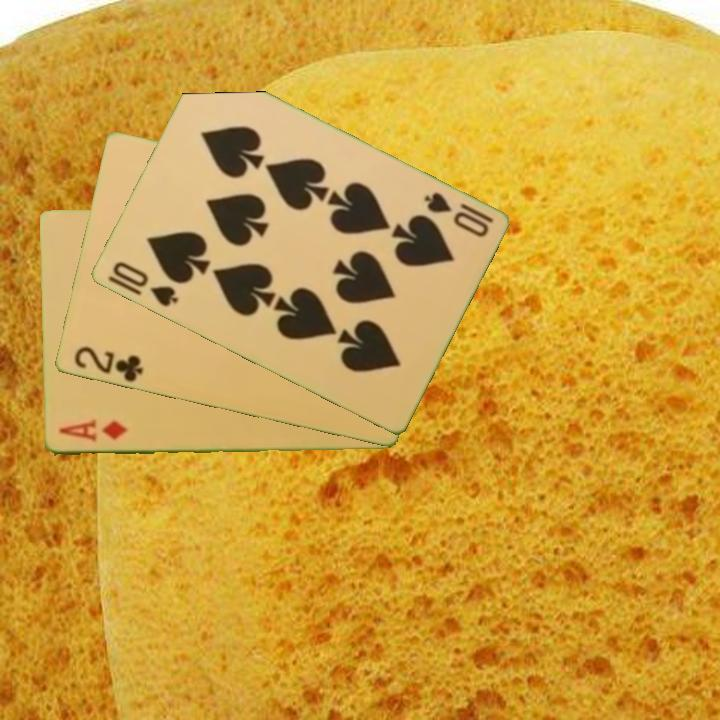10s: (419, 188, 496, 241), (108, 258, 181, 310)
2c: (70, 343, 146, 385)
Ad: (54, 417, 130, 446)
